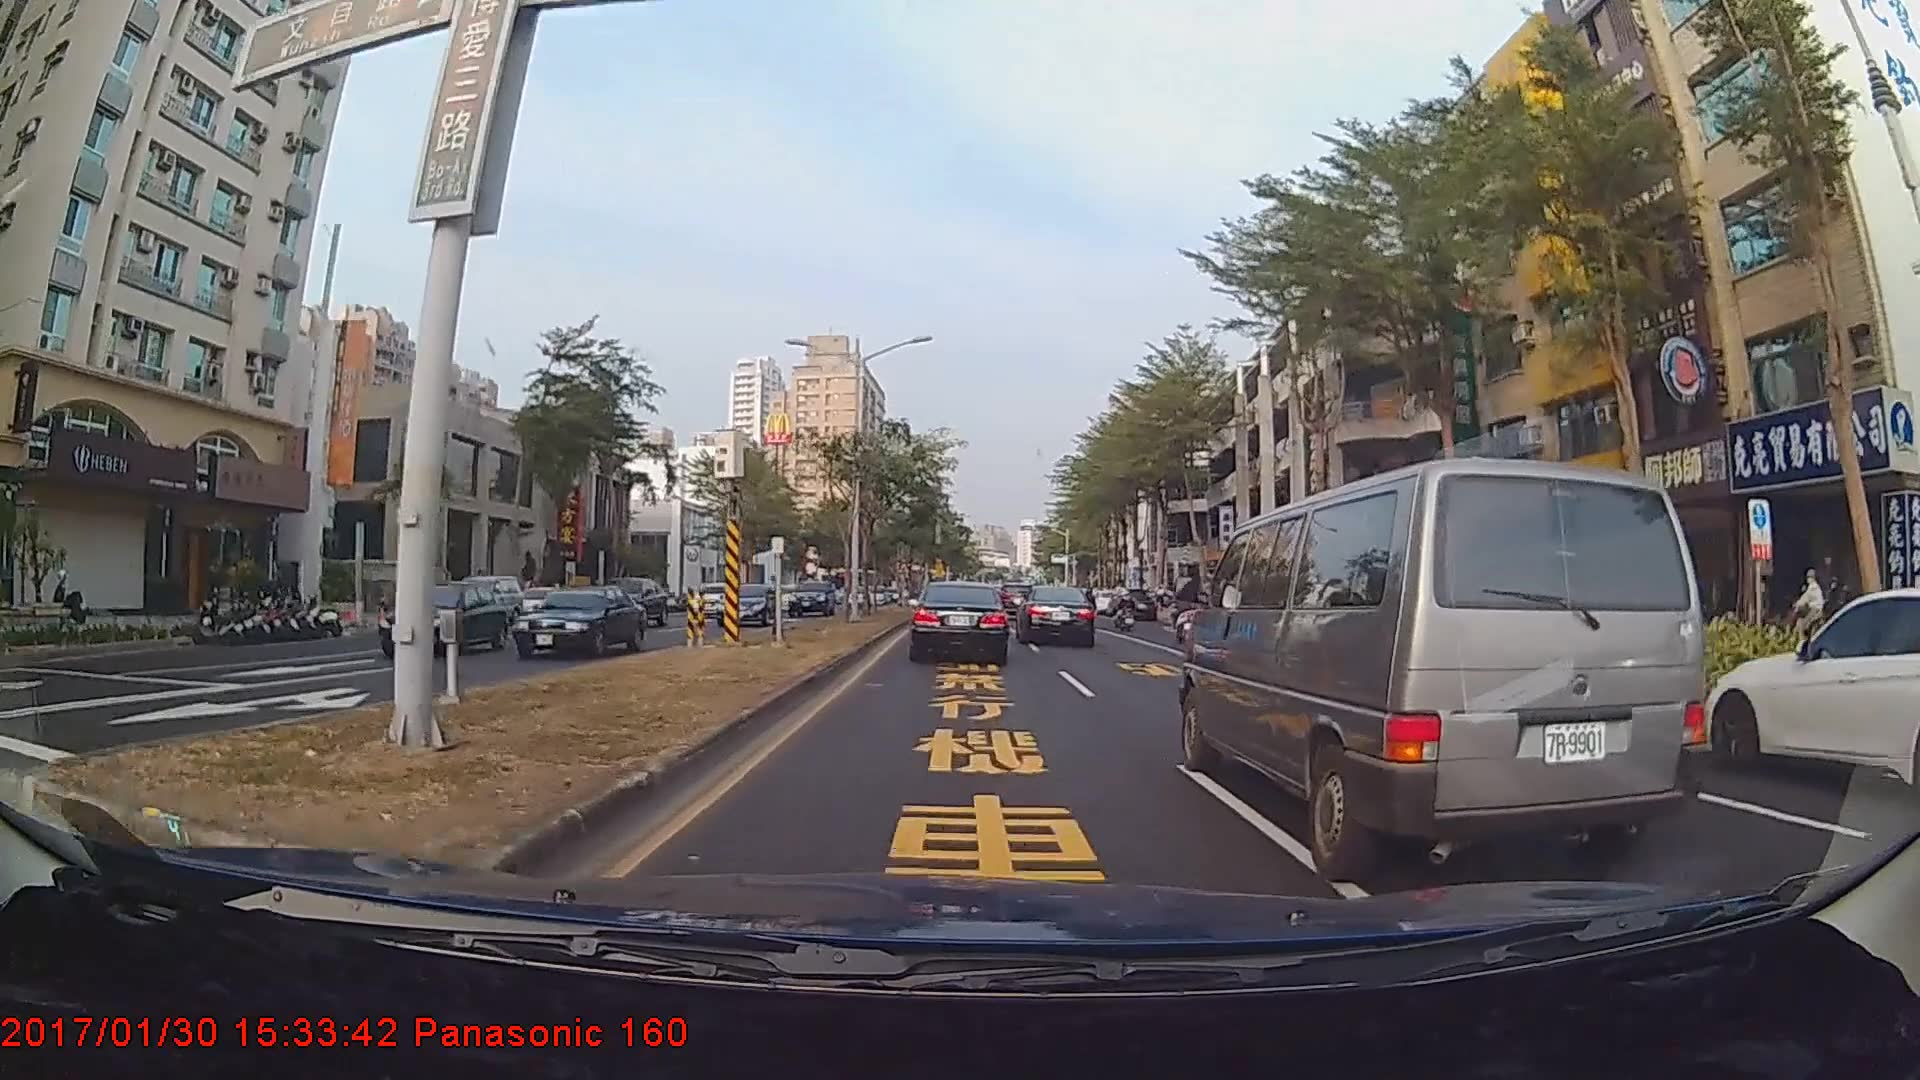vehicle: (1189, 448, 1704, 874), (1714, 584, 1919, 803), (506, 584, 647, 661), (376, 582, 509, 658), (907, 582, 1010, 666), (1017, 585, 1096, 647), (591, 576, 669, 629), (446, 574, 524, 625), (713, 583, 775, 626), (687, 580, 738, 618), (786, 579, 833, 615)
